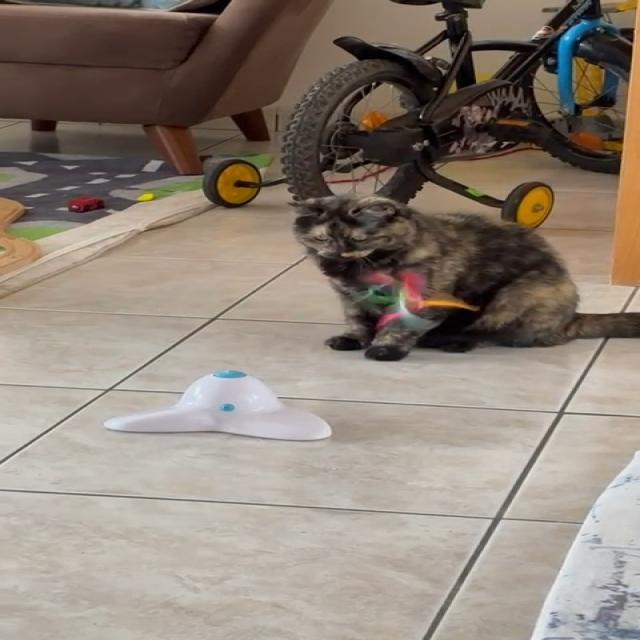authorized: (286, 192, 638, 360)
